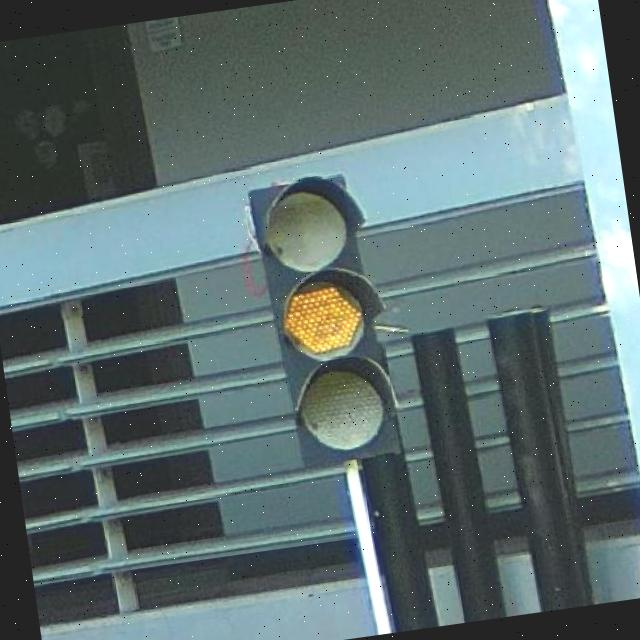yellow_light: (248, 169, 406, 472)
